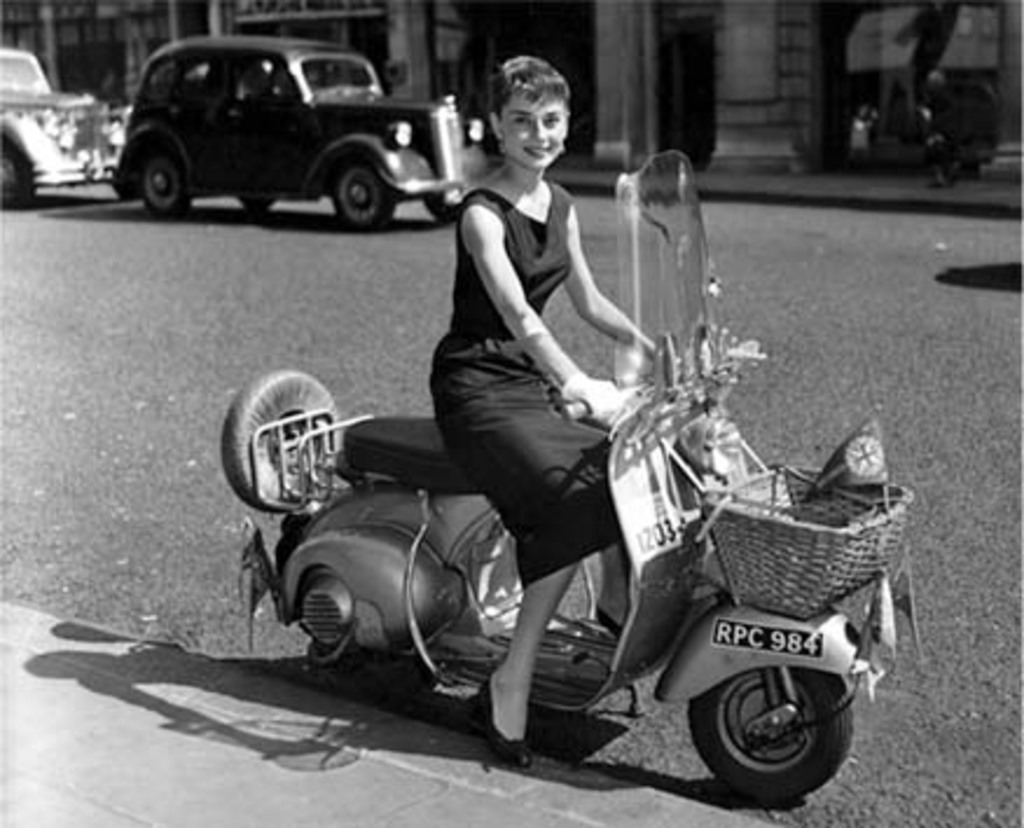Person: (428, 54, 656, 767)
